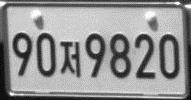0: (158, 33, 181, 79), (36, 32, 57, 77)
2: (134, 32, 156, 79)
8: (109, 33, 131, 78)
9: (84, 33, 107, 77), (11, 32, 32, 76)
저: (59, 40, 82, 78)
